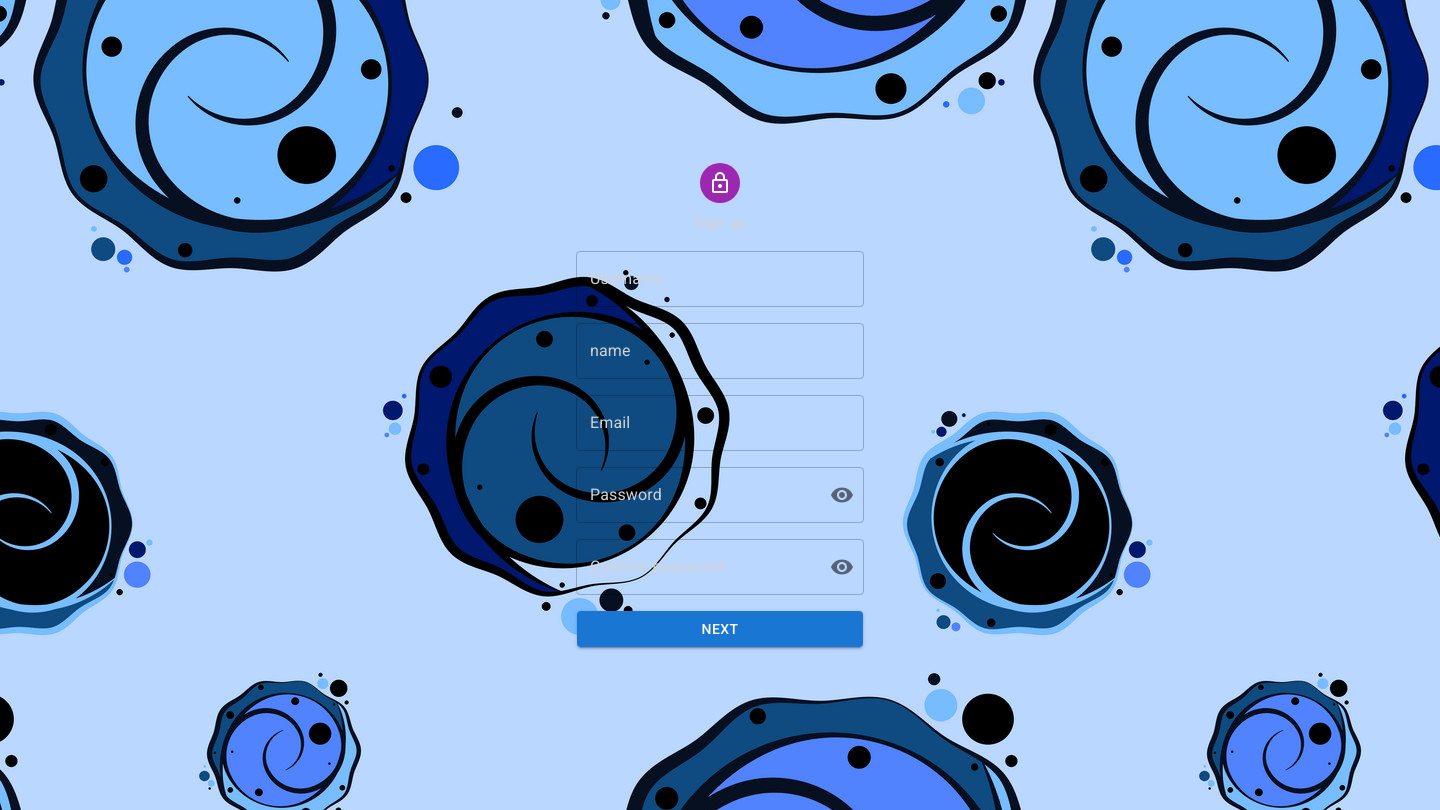
it: SignUp Component › proceeds to the next step when the form is valid
The width and height of the screenshot is (1440, 810).
Step 1. Type "testuser" into the field labelled "Username" → (720,279), box [576,251,864,307]
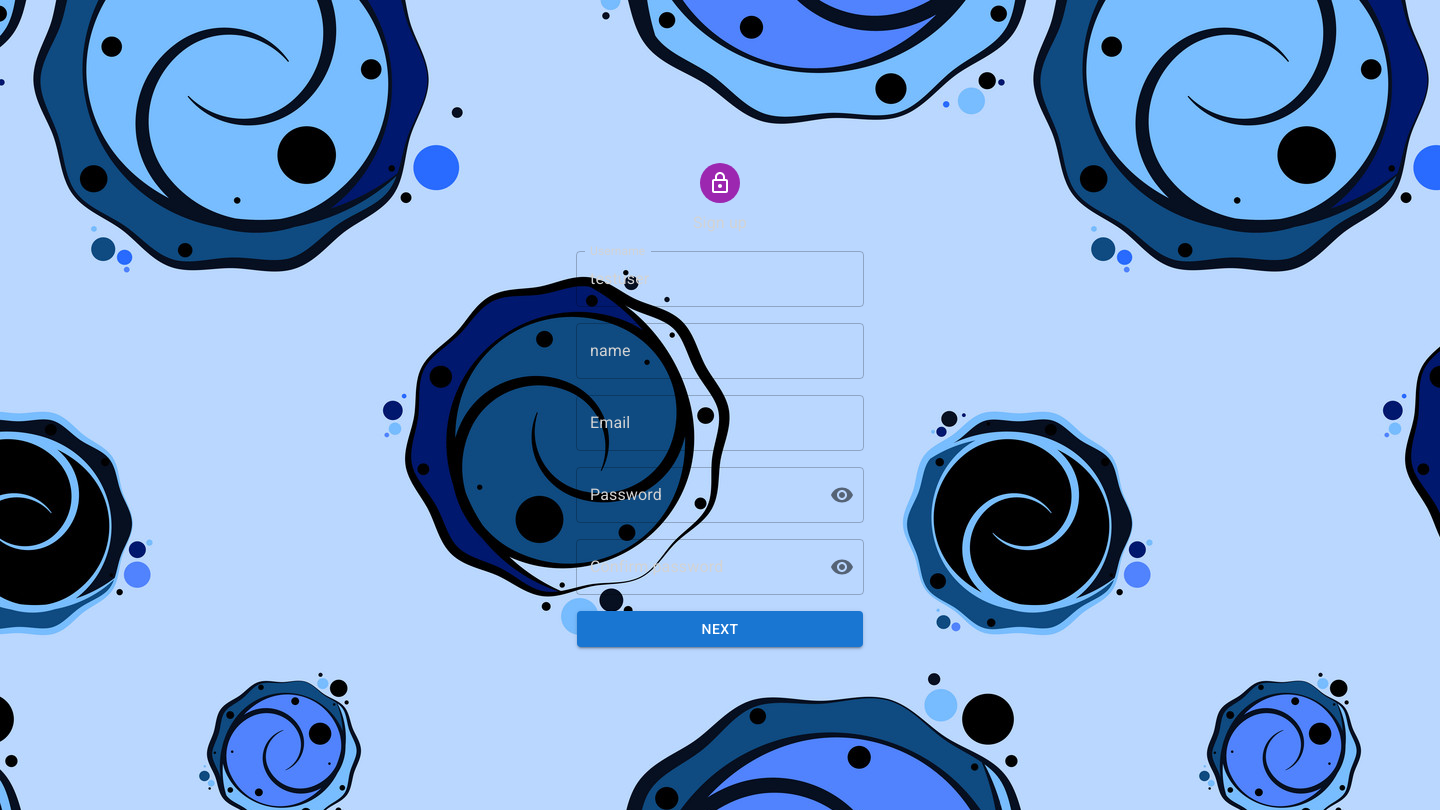
Step 2. Type "Test User" into the field labelled "name" → (720,351), box [576,323,864,379]
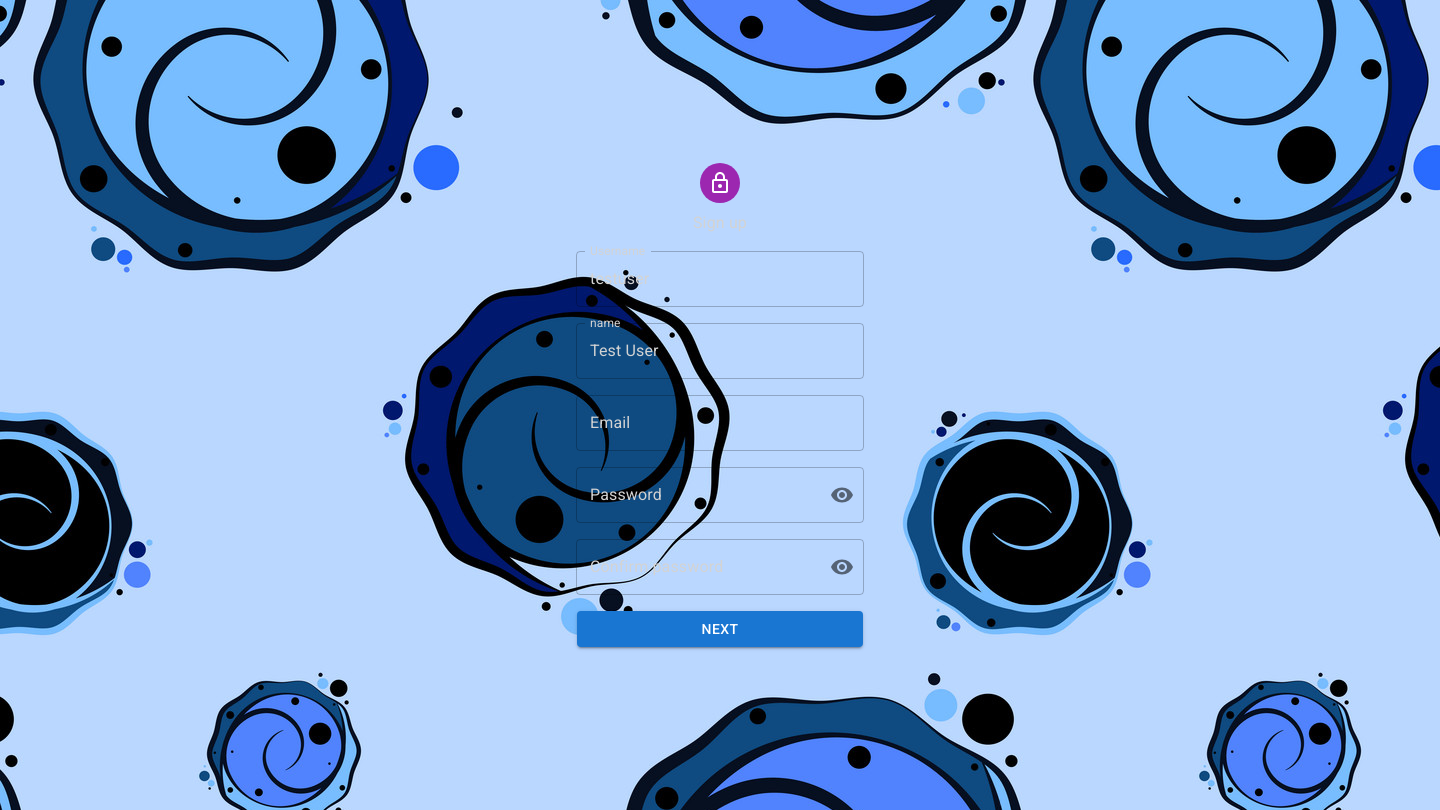
Step 3. Type "test@example.com" into the field labelled "Email" → (720,423), box [576,395,864,451]
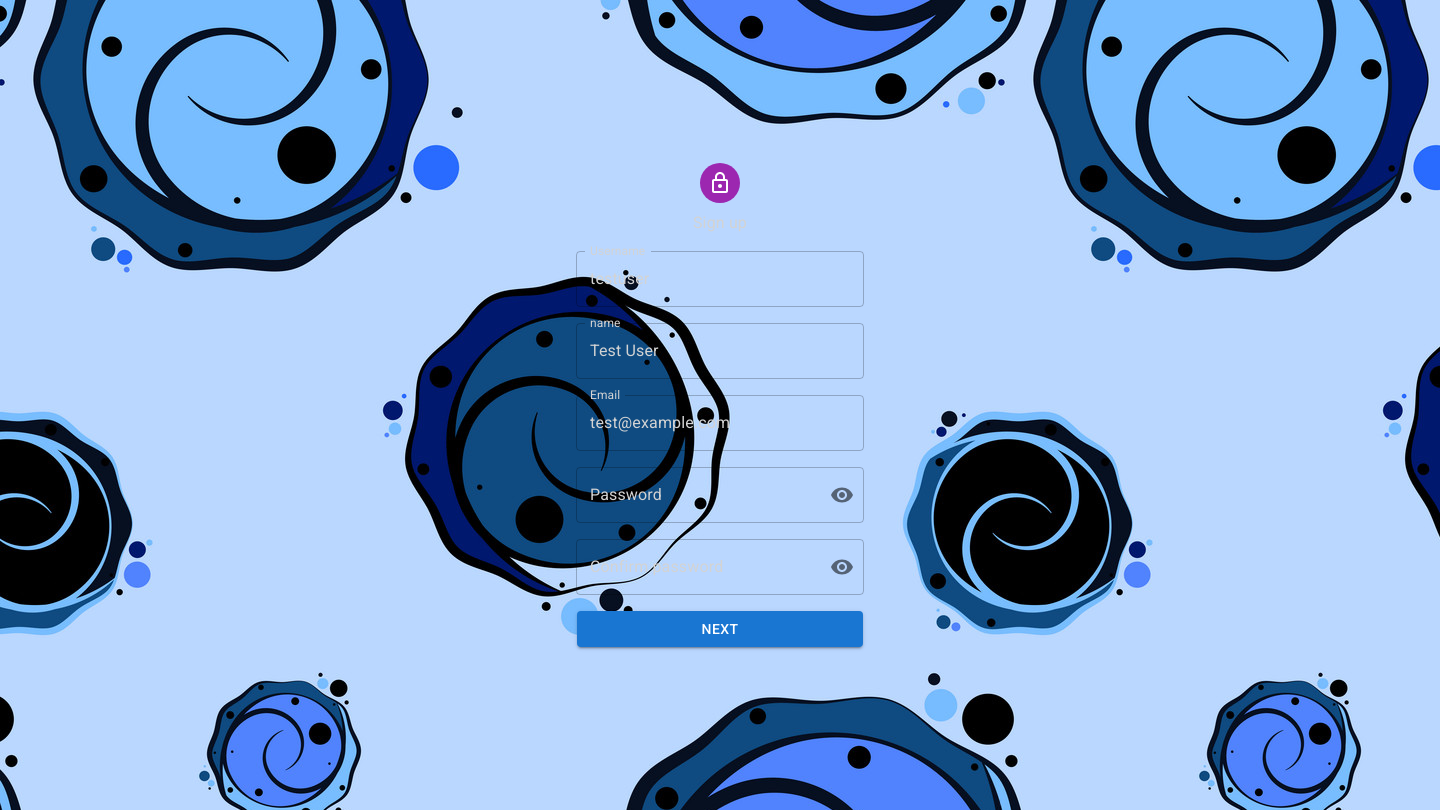
Step 4. Type "password1" into the password field with id "outlined-adornment-password-signup" → (695,495), box [576,467,814,523]
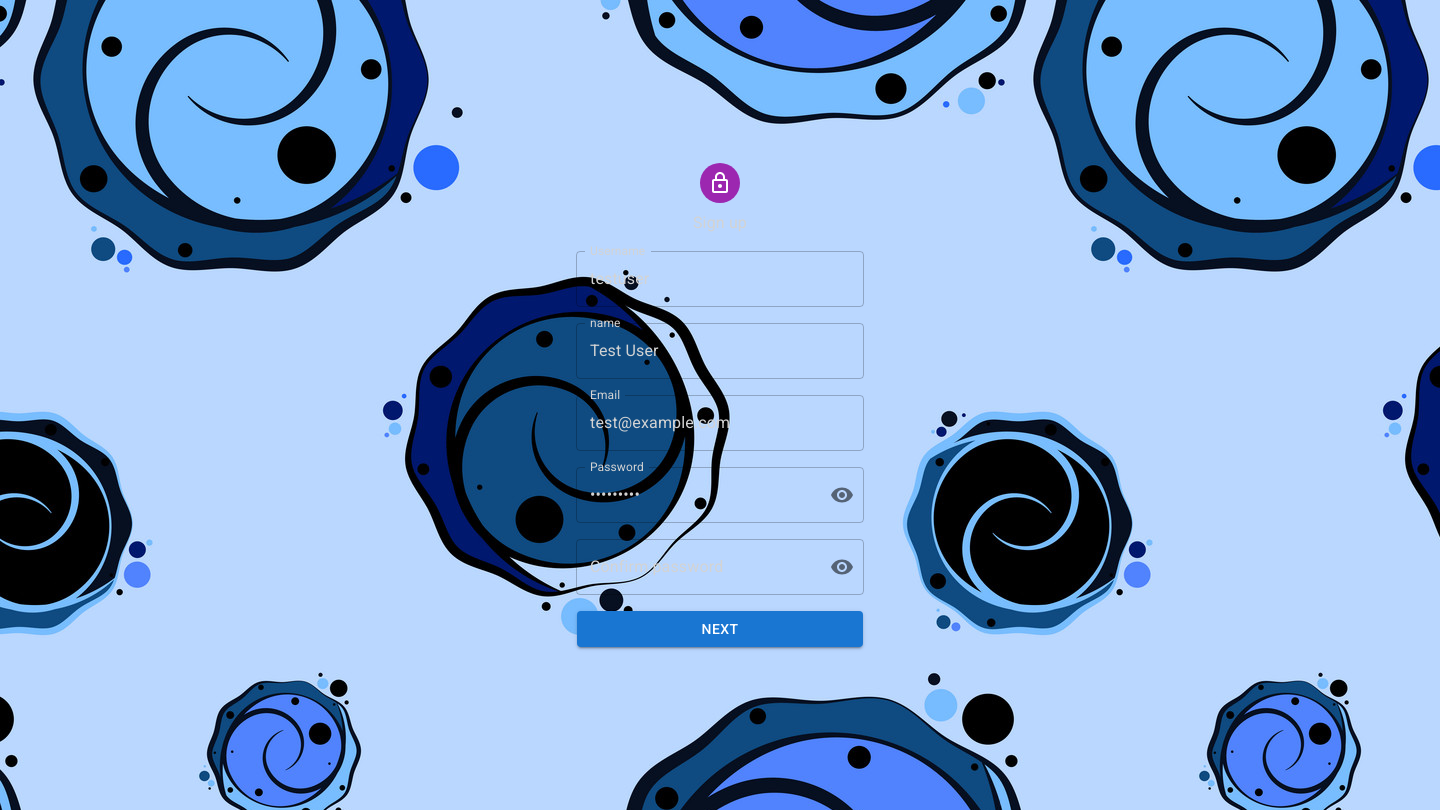
Step 5. Type "password1" into the password field with id "outlined-adornment-retypepassword-signup" → (695,567), box [576,539,814,595]
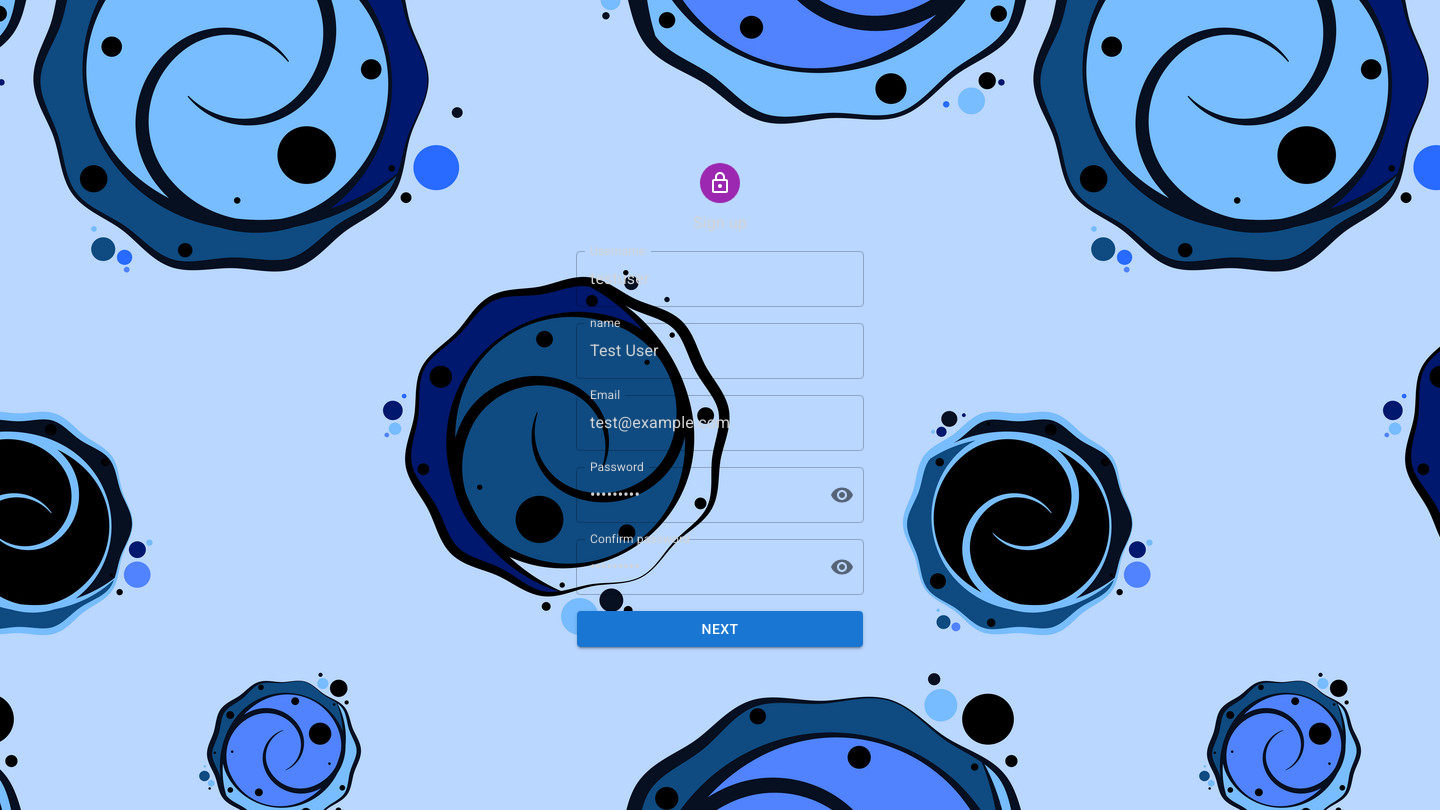
Step 6. Click the button "Next" → (720,629), box [577,611,863,647]
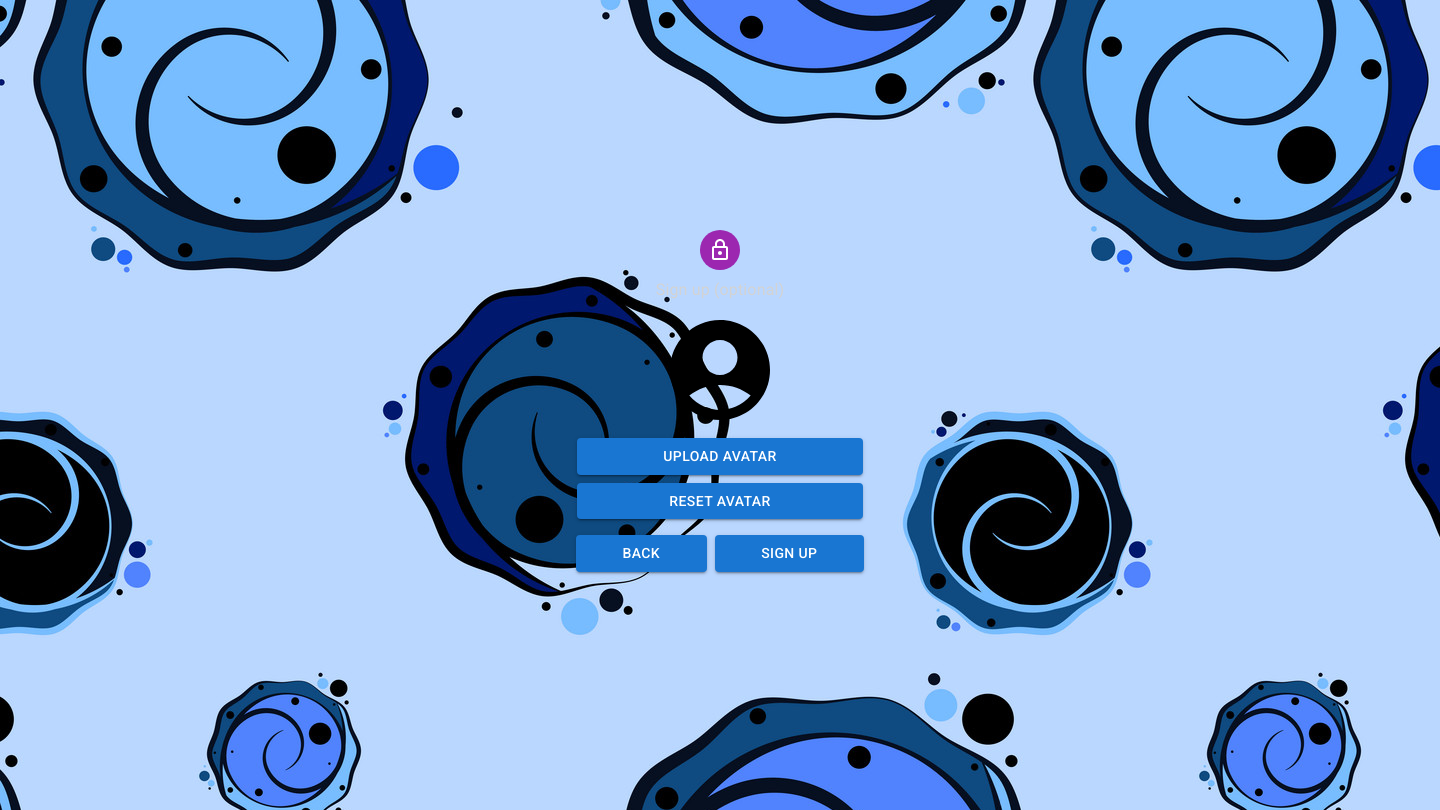
Expected: the button "Upload Avatar" is shown, [577,438,863,475]
